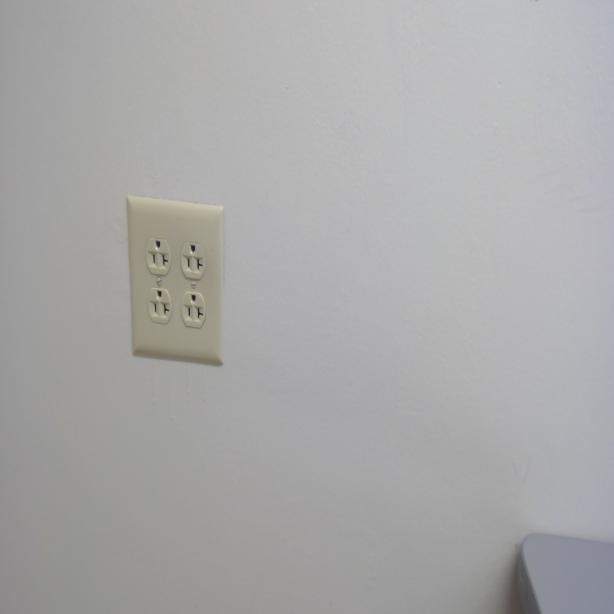typeb: (144, 234, 173, 276), (145, 287, 174, 324), (179, 240, 205, 280), (179, 290, 206, 328)
